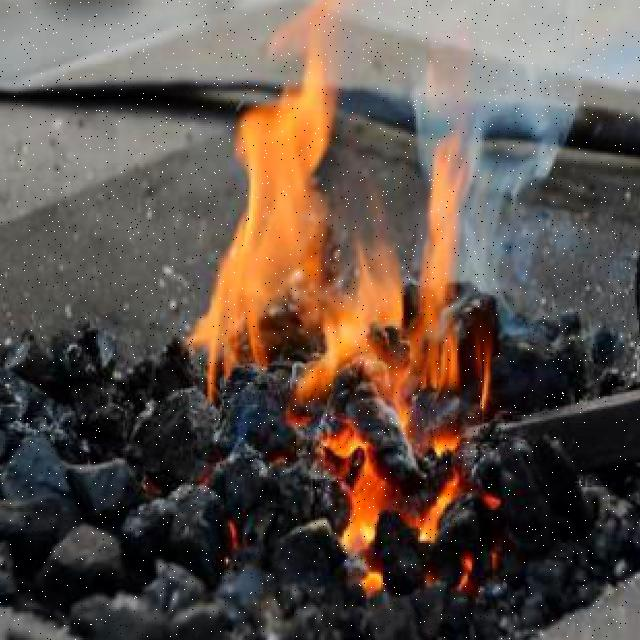fire: (174, 37, 498, 591)
smoke: (411, 0, 622, 282)
